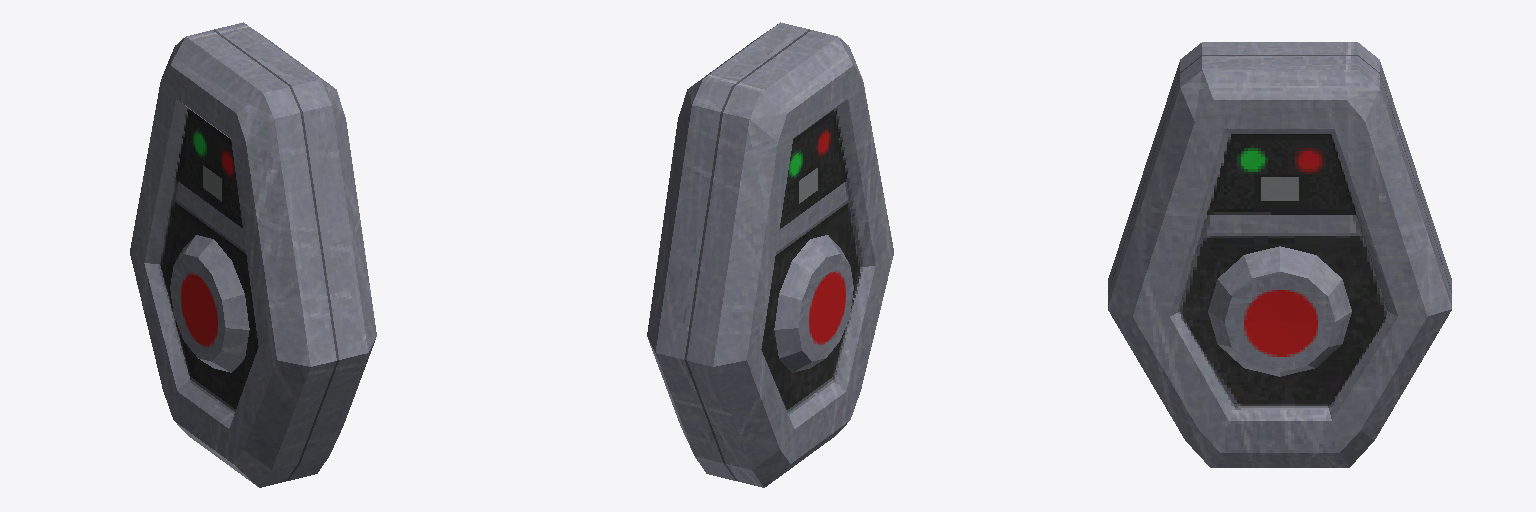
3 views of the same model, side by side, from view 1: azimuth 30°, elevation 25°; view 2: azimuth 150°, elevation 25°; view 3: azimuth 270°, elevation 25° (orthographic).
Visible parts, largest first — view 1: Prop_Batarang_Device; view 2: Prop_Batarang_Device; view 3: Prop_Batarang_Device.
Boxes of the visible parts, x1=… form: Prop_Batarang_Device: x1=130, y1=22, x2=376, y2=487; Prop_Batarang_Device: x1=647, y1=22, x2=893, y2=487; Prop_Batarang_Device: x1=1108, y1=42, x2=1451, y2=467.
Bounding box in the file's own units: 0.1208 × 0.3945 × 0.3101.
1 materials, 1 textured.